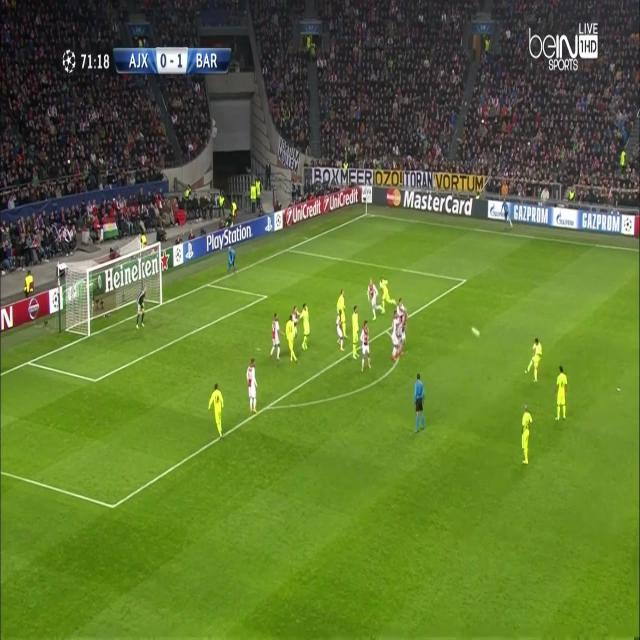Ball: (470, 320, 482, 343)
Goalkeeper: (133, 284, 149, 334)
Player: (522, 335, 546, 385), (206, 382, 226, 441), (552, 364, 570, 424), (245, 357, 260, 420), (520, 405, 534, 470), (348, 303, 362, 366), (379, 275, 399, 316), (284, 314, 300, 365), (365, 276, 382, 322), (268, 311, 282, 365), (359, 320, 373, 374), (299, 302, 312, 353), (336, 289, 350, 336), (389, 310, 400, 366), (335, 310, 347, 356)
Referee: (412, 368, 426, 438), (501, 198, 514, 235), (225, 244, 238, 277)
